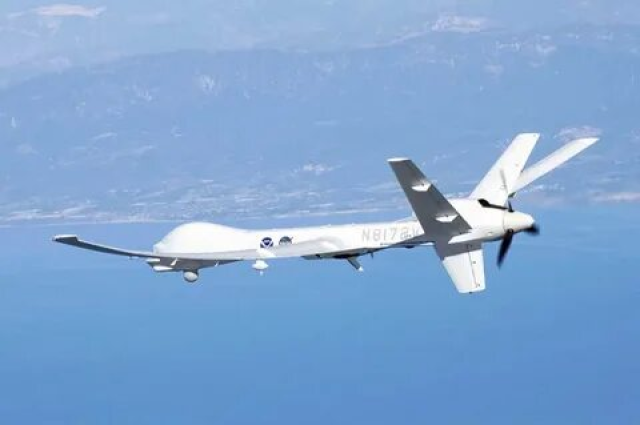military drone: (52, 132, 600, 293)
